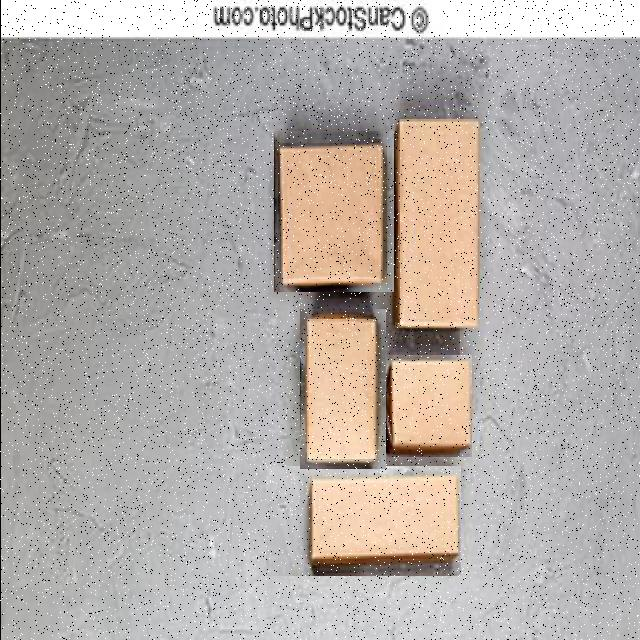normal: (388, 104, 484, 336), (265, 466, 460, 576), (272, 131, 392, 292), (298, 309, 384, 469), (378, 355, 471, 457)
